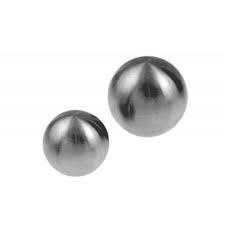steelball: (97, 47, 195, 139), (33, 107, 111, 181)
